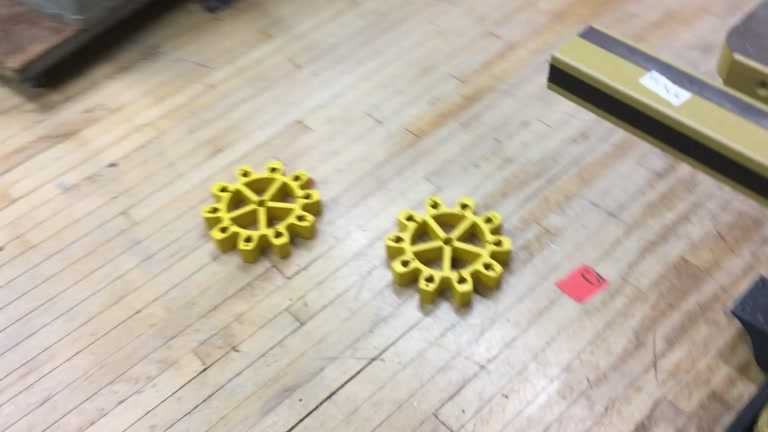gear: (383, 197, 512, 306), (202, 159, 323, 263)
